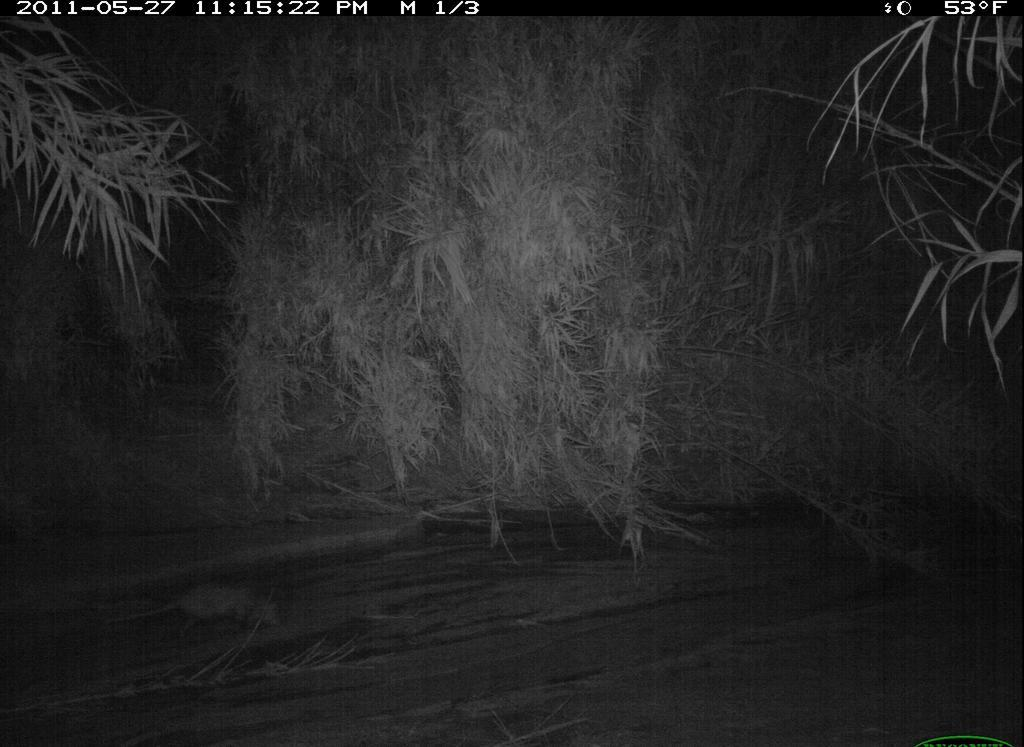opossum: (109, 571, 291, 649)
